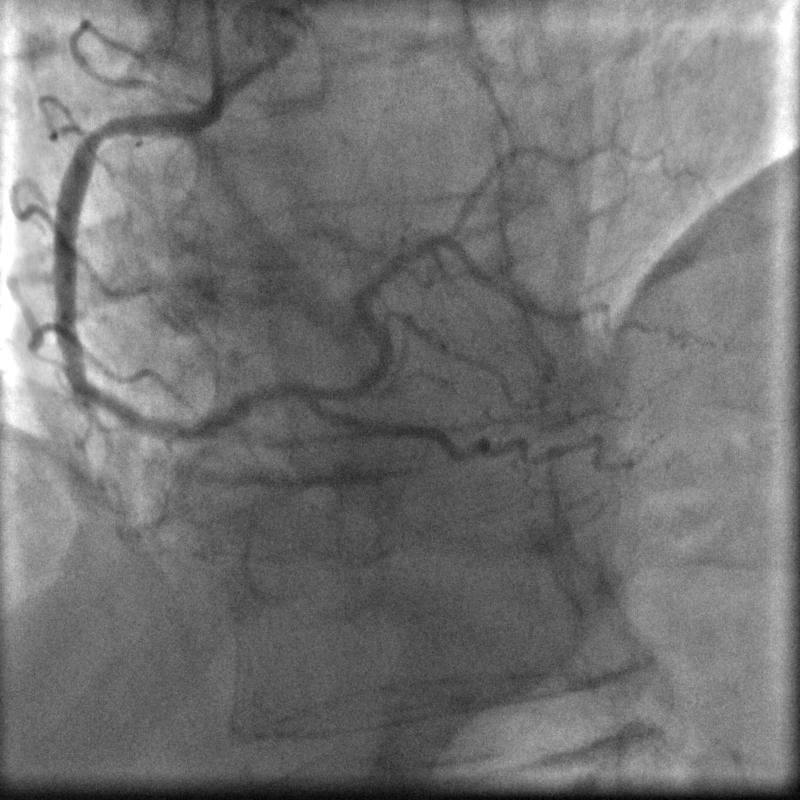Stenosis: (72, 115, 140, 140)
